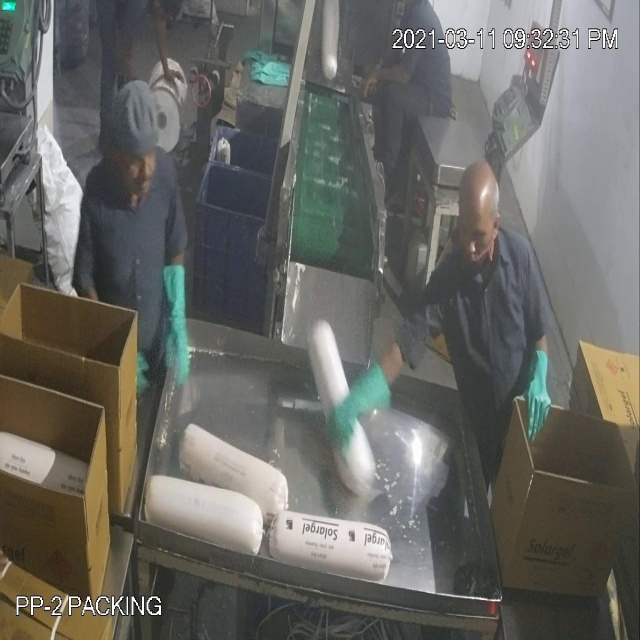Guantes: (326, 342, 400, 471), (158, 264, 199, 393), (512, 335, 559, 444)
Sin_guantes: (150, 11, 186, 98), (361, 53, 409, 98)
